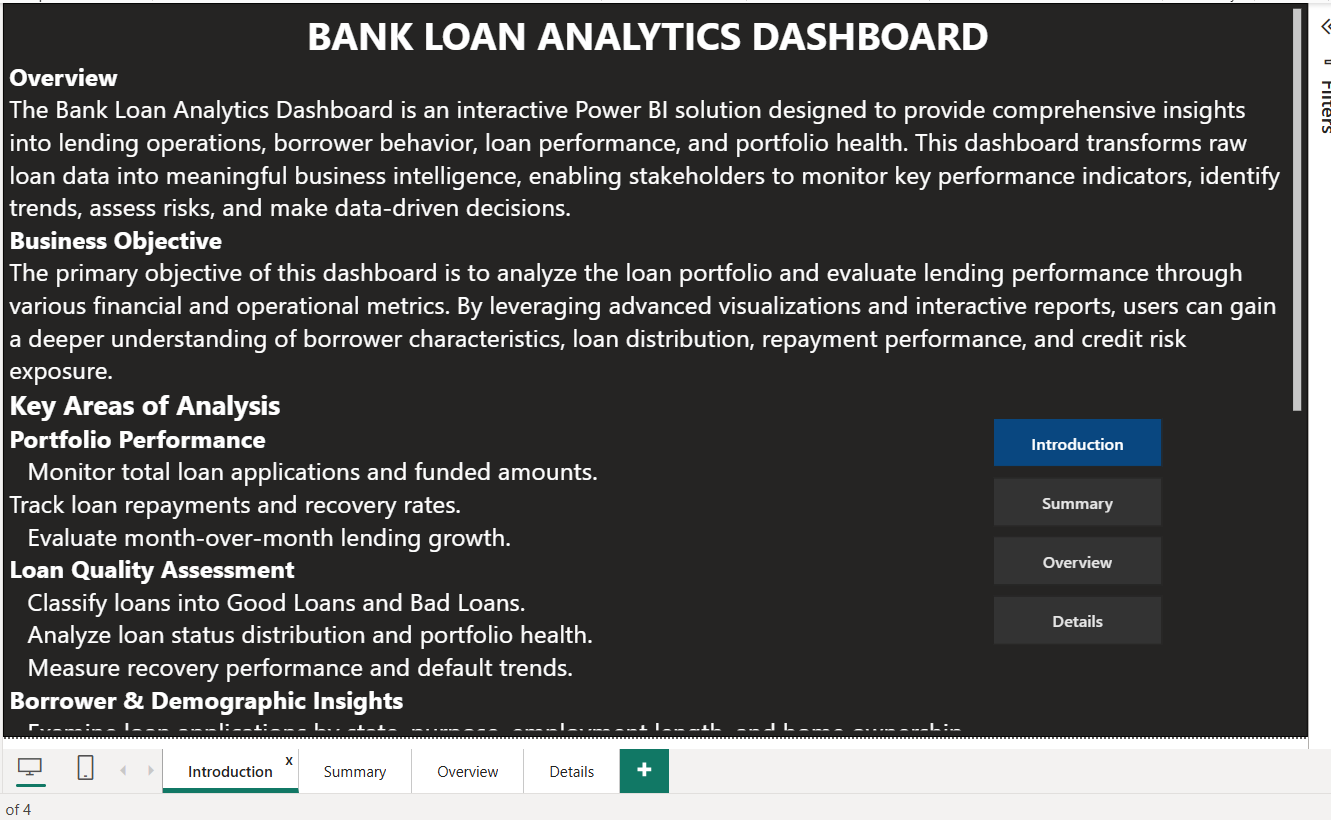

This screenshot's page, from the dashboard's own definition file:
{"tool":"powerbi","page":{"name":"Introduction ","canvas":[1280,720],"ordinal":0},"visuals":[{"type":"textbox","box":[0,0,1280,719.9],"z":0},{"type":"pageNavigator","box":[971.2,407.1,166.8,225.6],"z":1}]}

Visuals, with their boxes on the page's 1280x720 design canvas (x1, y1, x2, y2). These are canvas units, not pixel positions in the 1331x820 screenshot, which may show the page scaled, cropped or inside an application window:
textbox: [x1=0, y1=0, x2=1280, y2=720]
pageNavigator: [x1=971, y1=407, x2=1138, y2=633]
